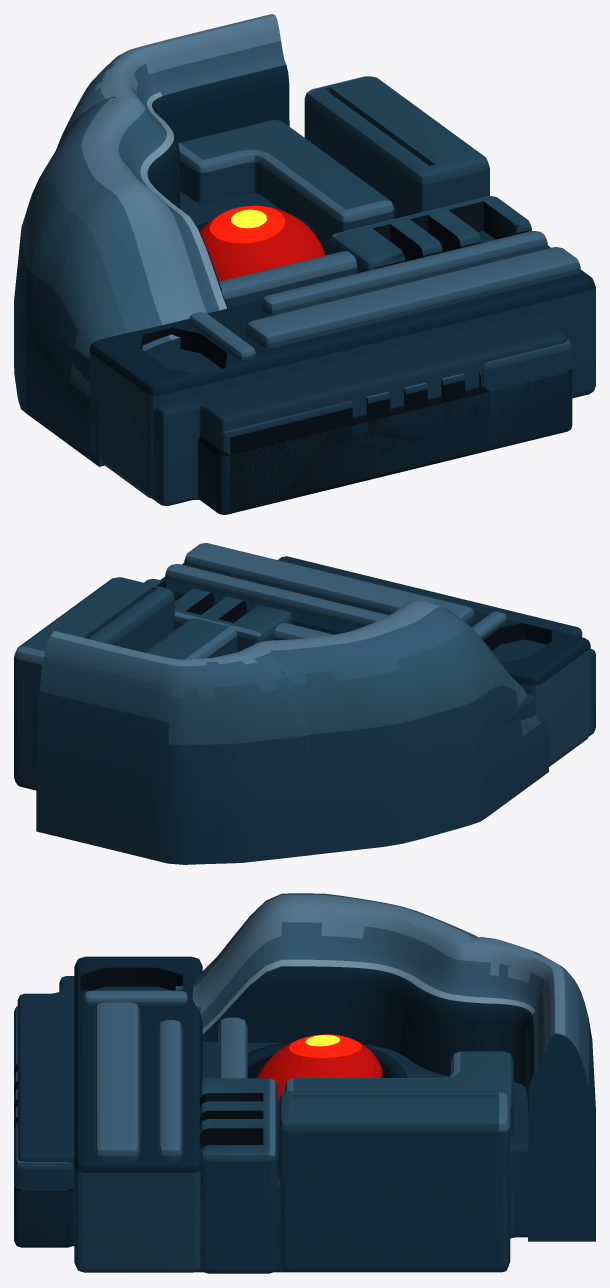
Rendered from blue_eye_helm.glb.
The picture shows the model from 3 angles, top to bottom: view 1: azimuth 30°, elevation 25°; view 2: azimuth 150°, elevation 25°; view 3: azimuth 270°, elevation 25°; orthographic projection. The views are drawn at different scales.
Visible parts, largest first — view 1: hood, base, core, chin, plate, chin_lip, bracket, slat1, vent, eye, slat0, ledge (+2 smaller); view 2: hood, plate, base, slat1, core, slat0, vent, bracket, ledge, divider; view 3: hood, plate, base, core, vent, slat1, bracket, eye, slat0, chin, chin_block, ledge (+2 smaller).
Part boxes in pixels (x1,y1,x2,y2): hood: (14,14,289,466); base: (89,245,595,498); core: (24,191,567,505); chin: (198,369,572,514); plate: (304,76,489,218); chin_lip: (216,370,481,513); bracket: (178,120,394,255); slat1: (246,247,580,347); vent: (330,196,531,273); eye: (200,205,325,281); slat0: (261,231,547,314); ledge: (219,251,357,308); hood: (36,599,548,864); plate: (14,577,174,786); base: (160,563,590,766); slat1: (184,543,474,623); core: (16,556,595,790); slat0: (165,564,388,627); vent: (144,579,292,651); bracket: (145,618,237,659); ledge: (273,623,333,640); divider: (471,611,506,639); hood: (175,893,595,1241); plate: (278,1091,510,1272); base: (74,956,202,1272); core: (17,976,528,1272); vent: (199,1078,277,1273); slat1: (94,1002,140,1162); bracket: (284,1051,513,1137); eye: (257,1034,382,1101); slat0: (158,1020,182,1162); chin: (14,1187,73,1247); chin_block: (14,1123,73,1242); ledge: (218,1017,247,1078).
Bounding box in the file's own units: 23.9 × 11 × 27.9.
